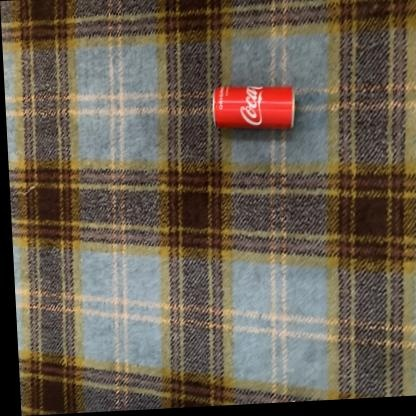trash: (213, 86, 294, 127)
